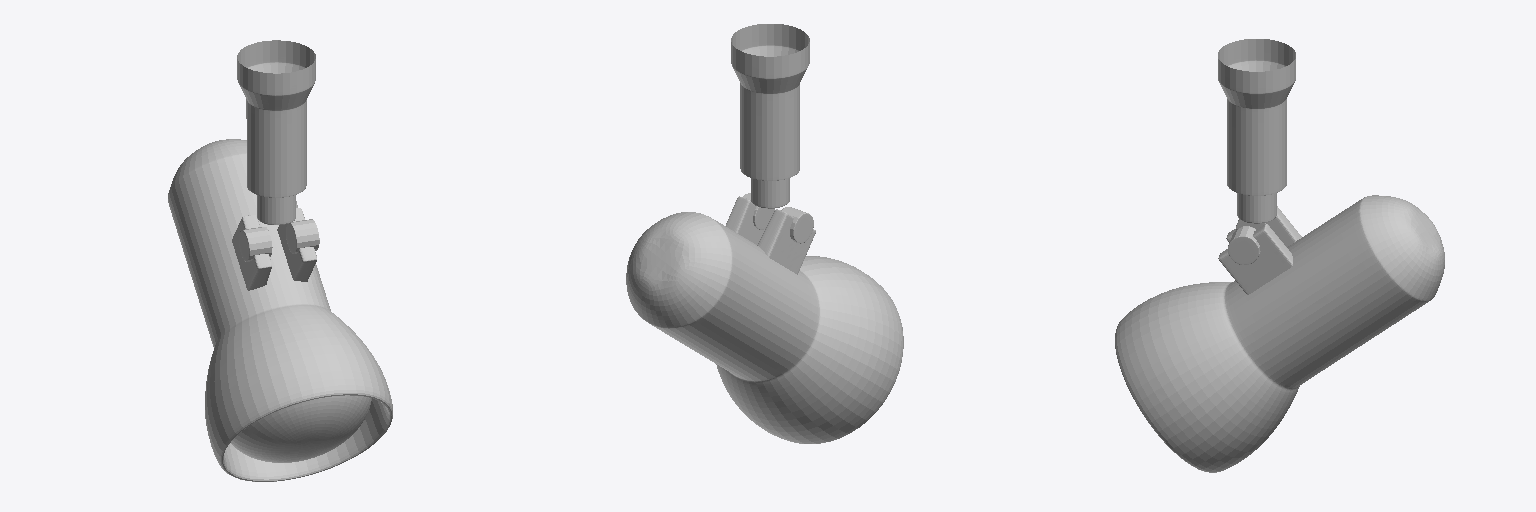
Rendered from spotlight.obj.
3 renders of one model, left to right at view 1: azimuth 30°, elevation 25°; view 2: azimuth 150°, elevation 25°; view 3: azimuth 270°, elevation 25°, orthographic.
Parts seen in each view (by area): view 1: Sphere.006_Sphere.005, Sphere.005_Sphere.003, painting_Sphere.006; view 2: Sphere.006_Sphere.005, Sphere.005_Sphere.003; view 3: Sphere.006_Sphere.005, Sphere.005_Sphere.003.
Part boxes in pixels (left/top/right/bottom): Sphere.006_Sphere.005: left=168, top=139, right=392, bottom=481; Sphere.005_Sphere.003: left=237, top=40, right=315, bottom=224; painting_Sphere.006: left=231, top=395, right=371, bottom=462; Sphere.006_Sphere.005: left=626, top=193, right=903, bottom=443; Sphere.005_Sphere.003: left=731, top=24, right=809, bottom=208; Sphere.006_Sphere.005: left=1115, top=195, right=1444, bottom=472; Sphere.005_Sphere.003: left=1218, top=39, right=1295, bottom=223.
Size of the model in its own units: 0.2165 by 0.5173 by 0.3775.